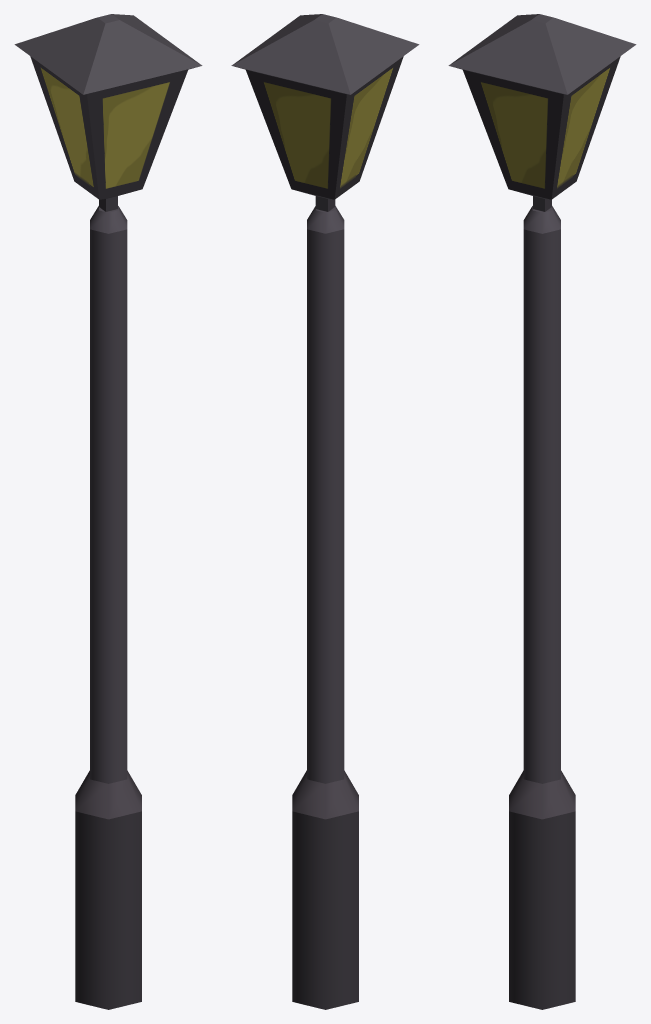
Rendered from Lamp_01.fbx.
3 renders of one model, left to right at view 1: azimuth 30°, elevation 25°; view 2: azimuth 150°, elevation 25°; view 3: azimuth 330°, elevation 25°, orthographic.
Visible parts, largest first — view 1: Lamp_01; view 2: Lamp_01; view 3: Lamp_01.
Boxes of the visible parts, x1,y1,x2,y2 form: Lamp_01: (14,14,202,1009); Lamp_01: (231,14,419,1009); Lamp_01: (448,14,636,1009).
Size of the model in its own units: 59.64 by 466 by 59.64.
1 material, 1 textured.
